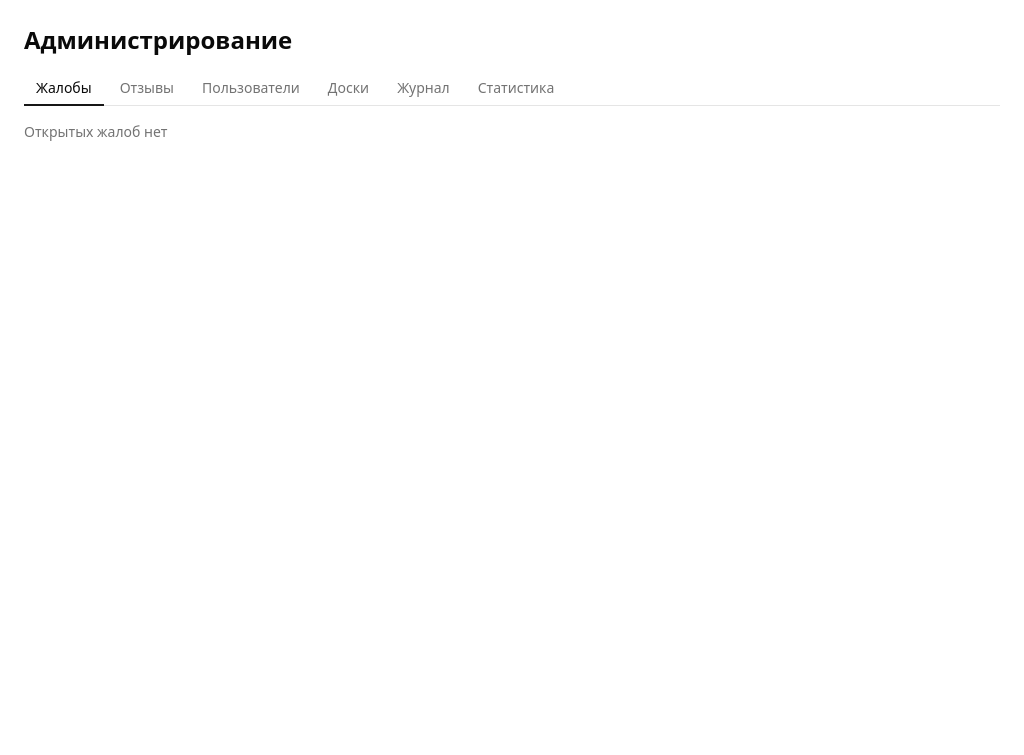
Scenario: AdminStats › shows the active users, the new accounts and the guests who signed in over their periods
Click the tab "Статистика" at (516, 89), box [466,72,566,106]
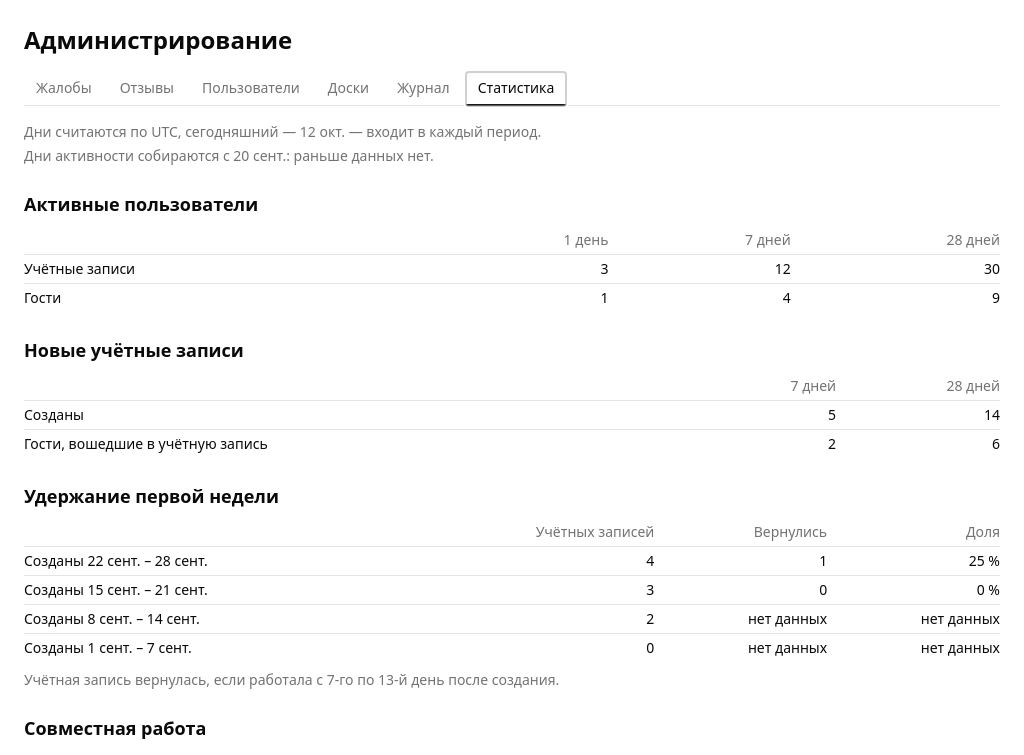
Result: the column headings read "1 день", "7 дней", "28 дней", in this order at [429,226,608,254]; [608,226,791,254]; [791,226,1000,254]
Result: the text "Дни активности собираются с 20 сент.: раньше данных нет." is shown at [24,146,434,165]
